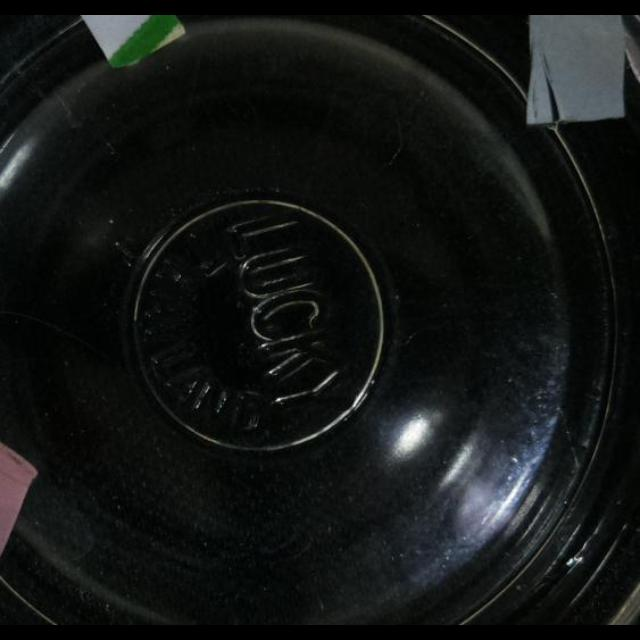Fragment: (524, 15, 626, 123), (80, 15, 186, 73), (0, 438, 38, 560)
